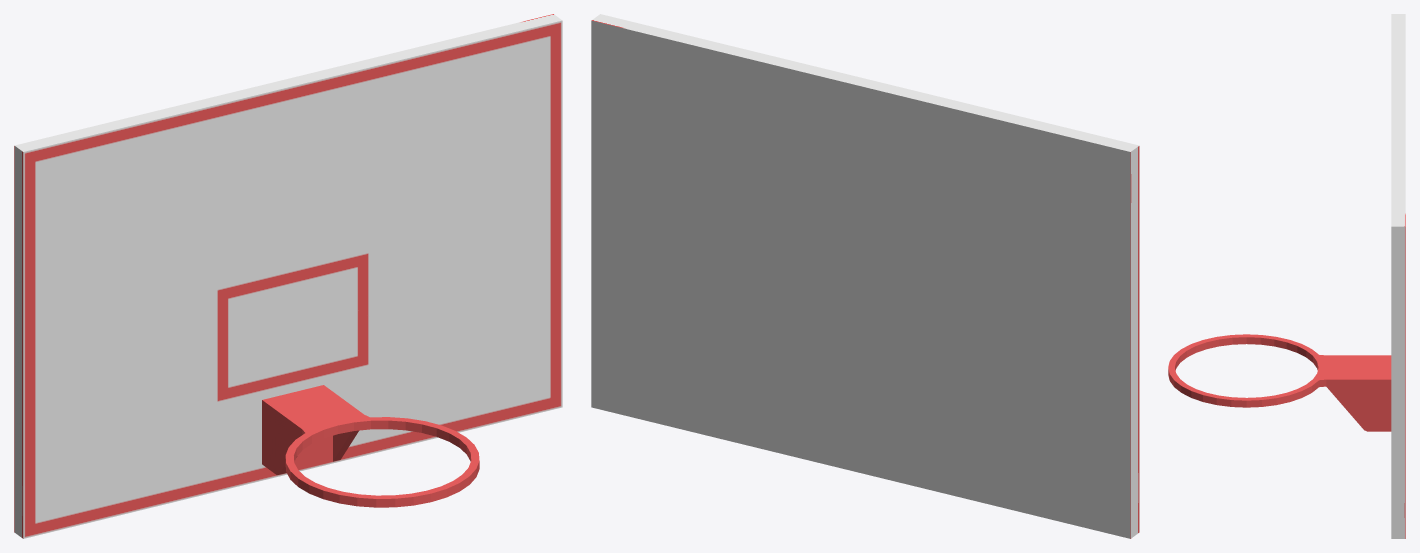
Rendered from newBasketballHoop.fbx.
3 views of the same model, side by side, from view 1: azimuth 30°, elevation 25°; view 2: azimuth 150°, elevation 25°; view 3: azimuth 270°, elevation 25° (orthographic). The views are drawn at different scales.
Visible parts, largest first — view 1: Cube, Cube.001; view 2: Cube; view 3: Cube.001, Cube.
Part boxes in pixels (left/top/right/bottom): Cube: left=14, top=14, right=562, bottom=538; Cube.001: left=262, top=385, right=479, bottom=507; Cube: left=591, top=14, right=1139, bottom=538; Cube.001: left=1168, top=334, right=1391, bottom=431; Cube: left=1391, top=14, right=1405, bottom=538.
Bounding box in the file's own units: 700 × 480 × 331.
